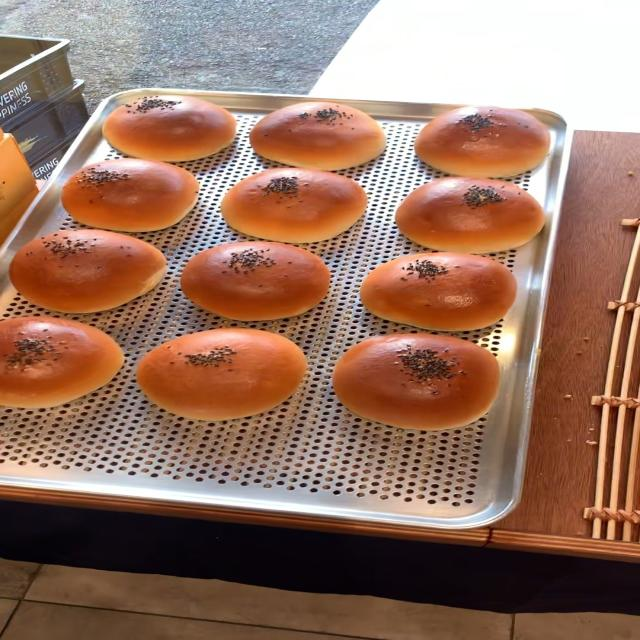bread: (136, 325, 309, 422), (338, 333, 501, 429), (391, 170, 549, 256), (8, 230, 164, 313), (217, 165, 373, 246), (179, 244, 332, 323), (358, 254, 512, 328), (56, 152, 198, 232), (1, 318, 122, 408), (413, 104, 552, 177), (253, 100, 387, 171), (98, 91, 237, 158)
